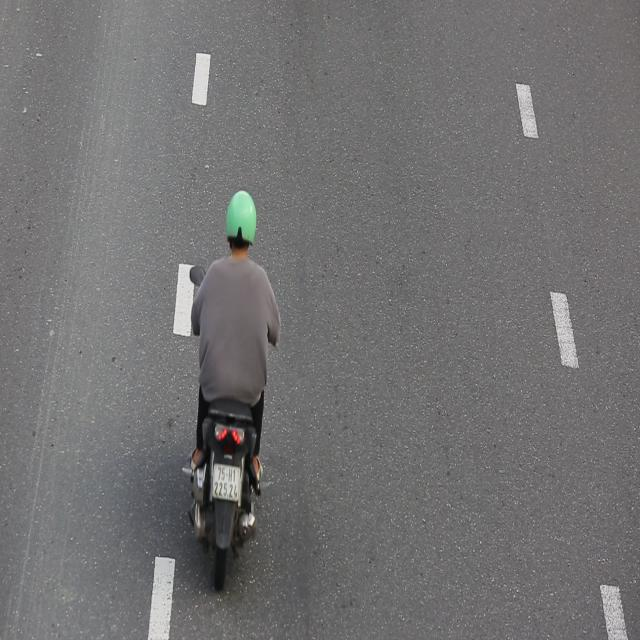motorbike: (188, 183, 280, 604)
